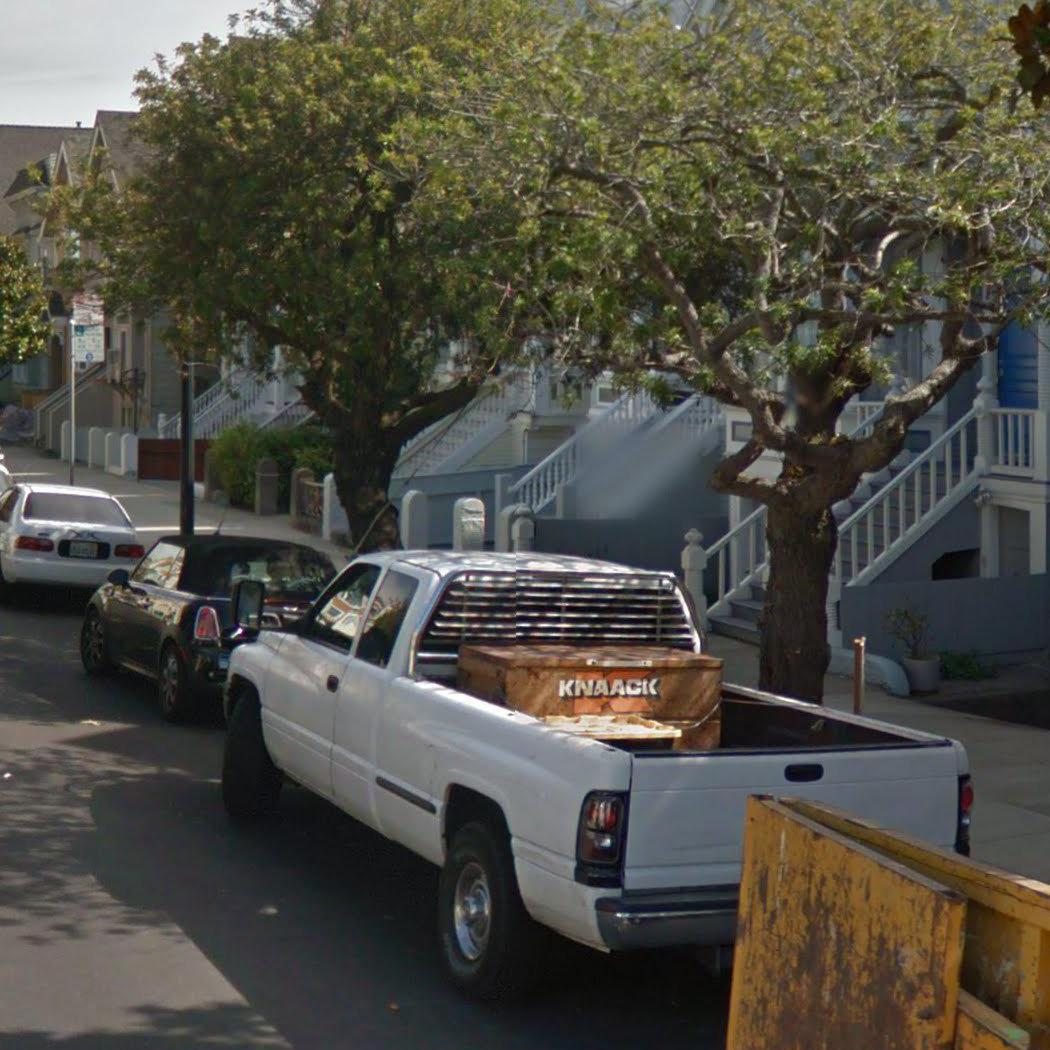2 Hour Parking: (69, 325, 106, 364)
No Parking: (71, 290, 106, 326)
